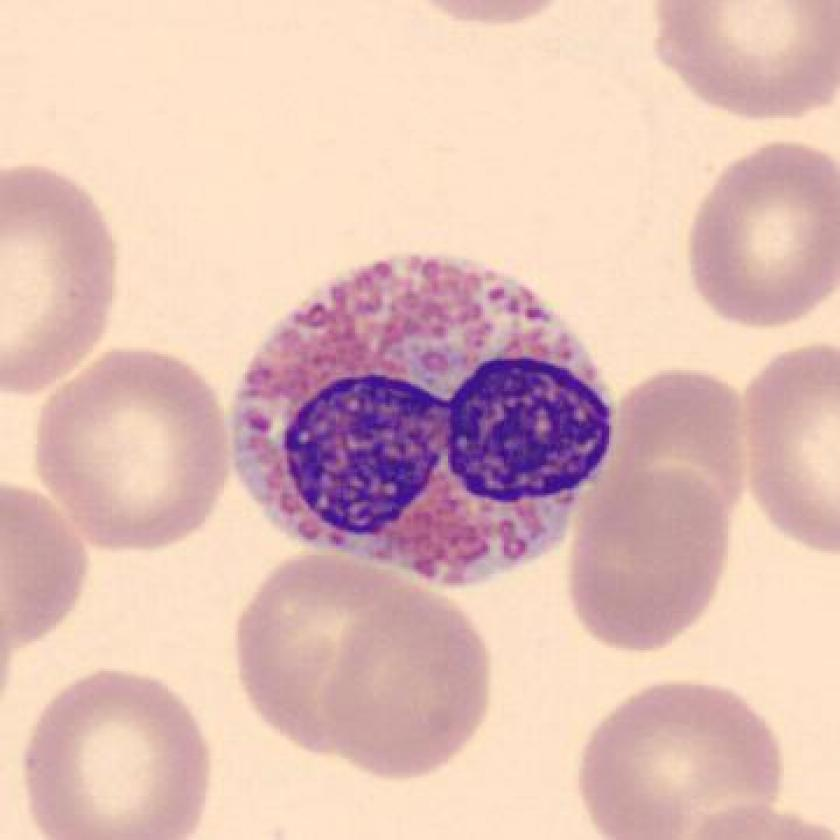eosinophil: (211, 237, 626, 603)
